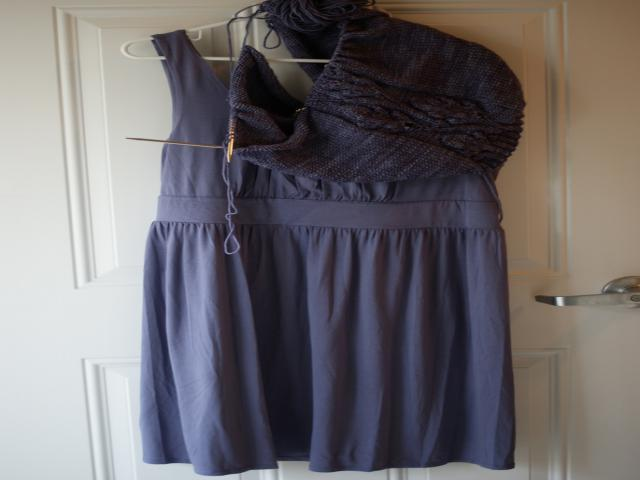Door-handle: (528, 274, 640, 312)
